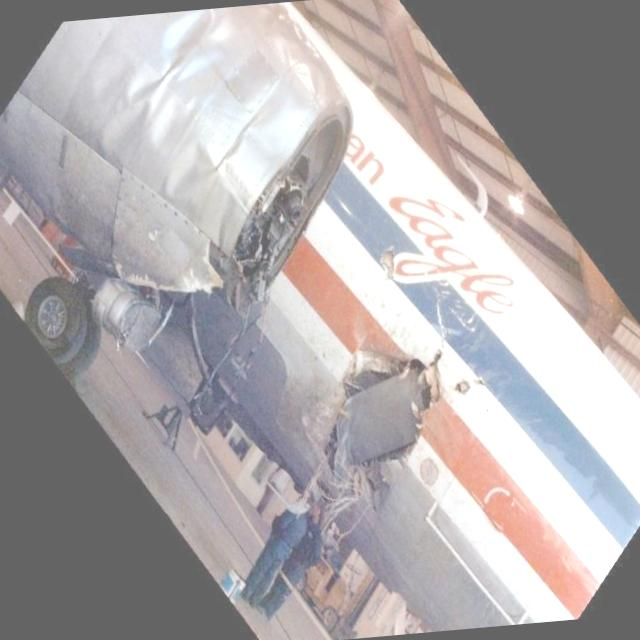dent: (113, 10, 222, 126), (220, 86, 308, 186), (161, 136, 221, 201)
